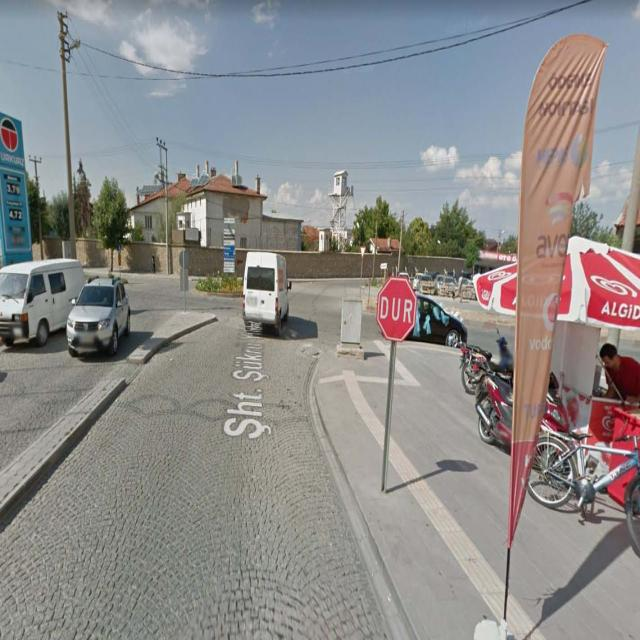dur: (377, 277, 417, 342)
